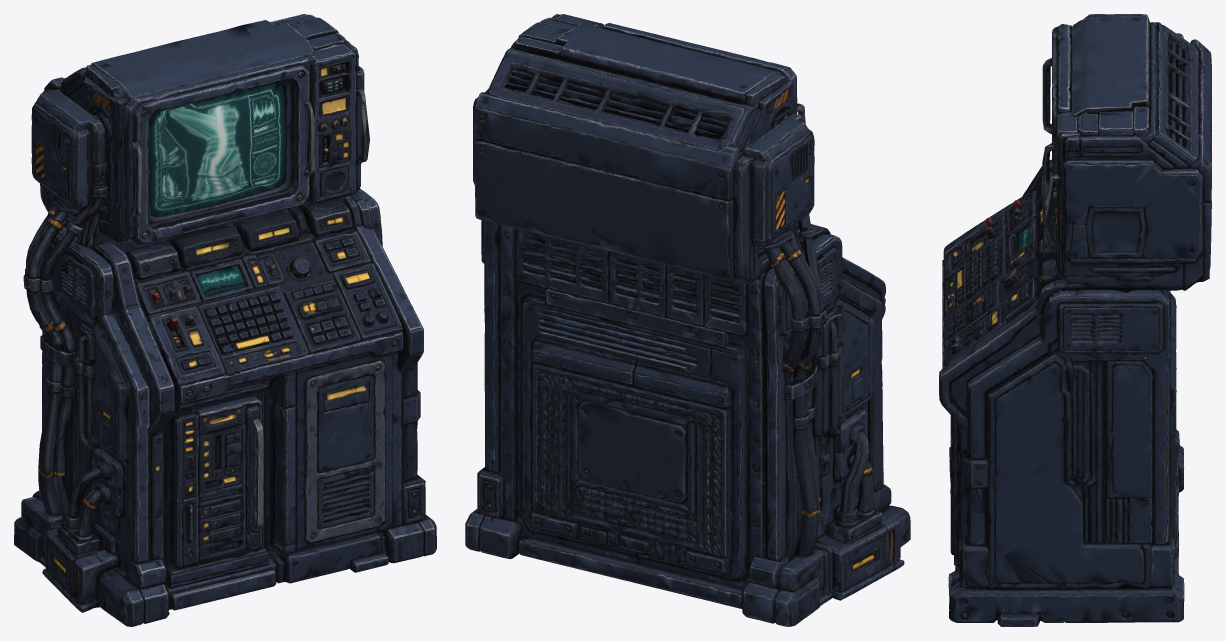
File: RPGReactor-Computer-01.glb
The picture shows the model from 3 angles, left to right: view 1: azimuth 30°, elevation 25°; view 2: azimuth 150°, elevation 25°; view 3: azimuth 270°, elevation 25°; orthographic projection. The views are drawn at different scales.
Parts seen in each view (by area): view 1: mesh_node; view 2: mesh_node; view 3: mesh_node.
Part boxes in pixels (<box>): mesh_node: <box>14,14,436,626</box>; mesh_node: <box>465,14,910,626</box>; mesh_node: <box>939,14,1211,626</box>.
Size of the model in its own units: 1.4 by 1.9 by 0.9664.
Materials: 1 (1 with a texture image).
